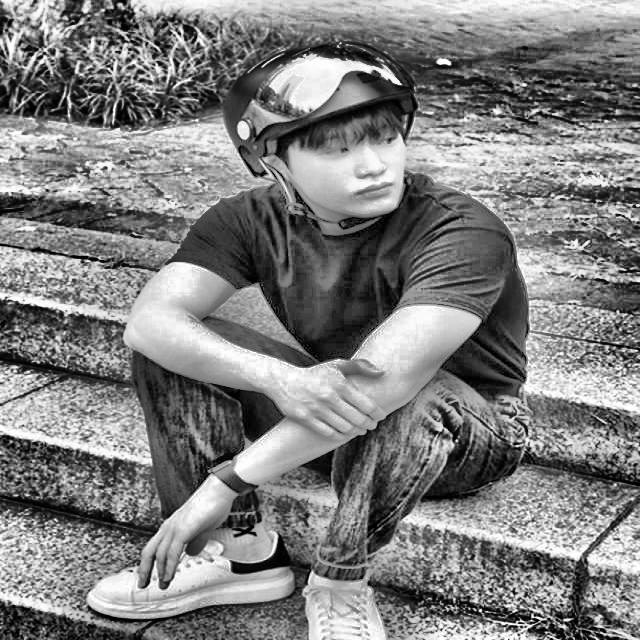Helmet: (215, 19, 444, 241)
